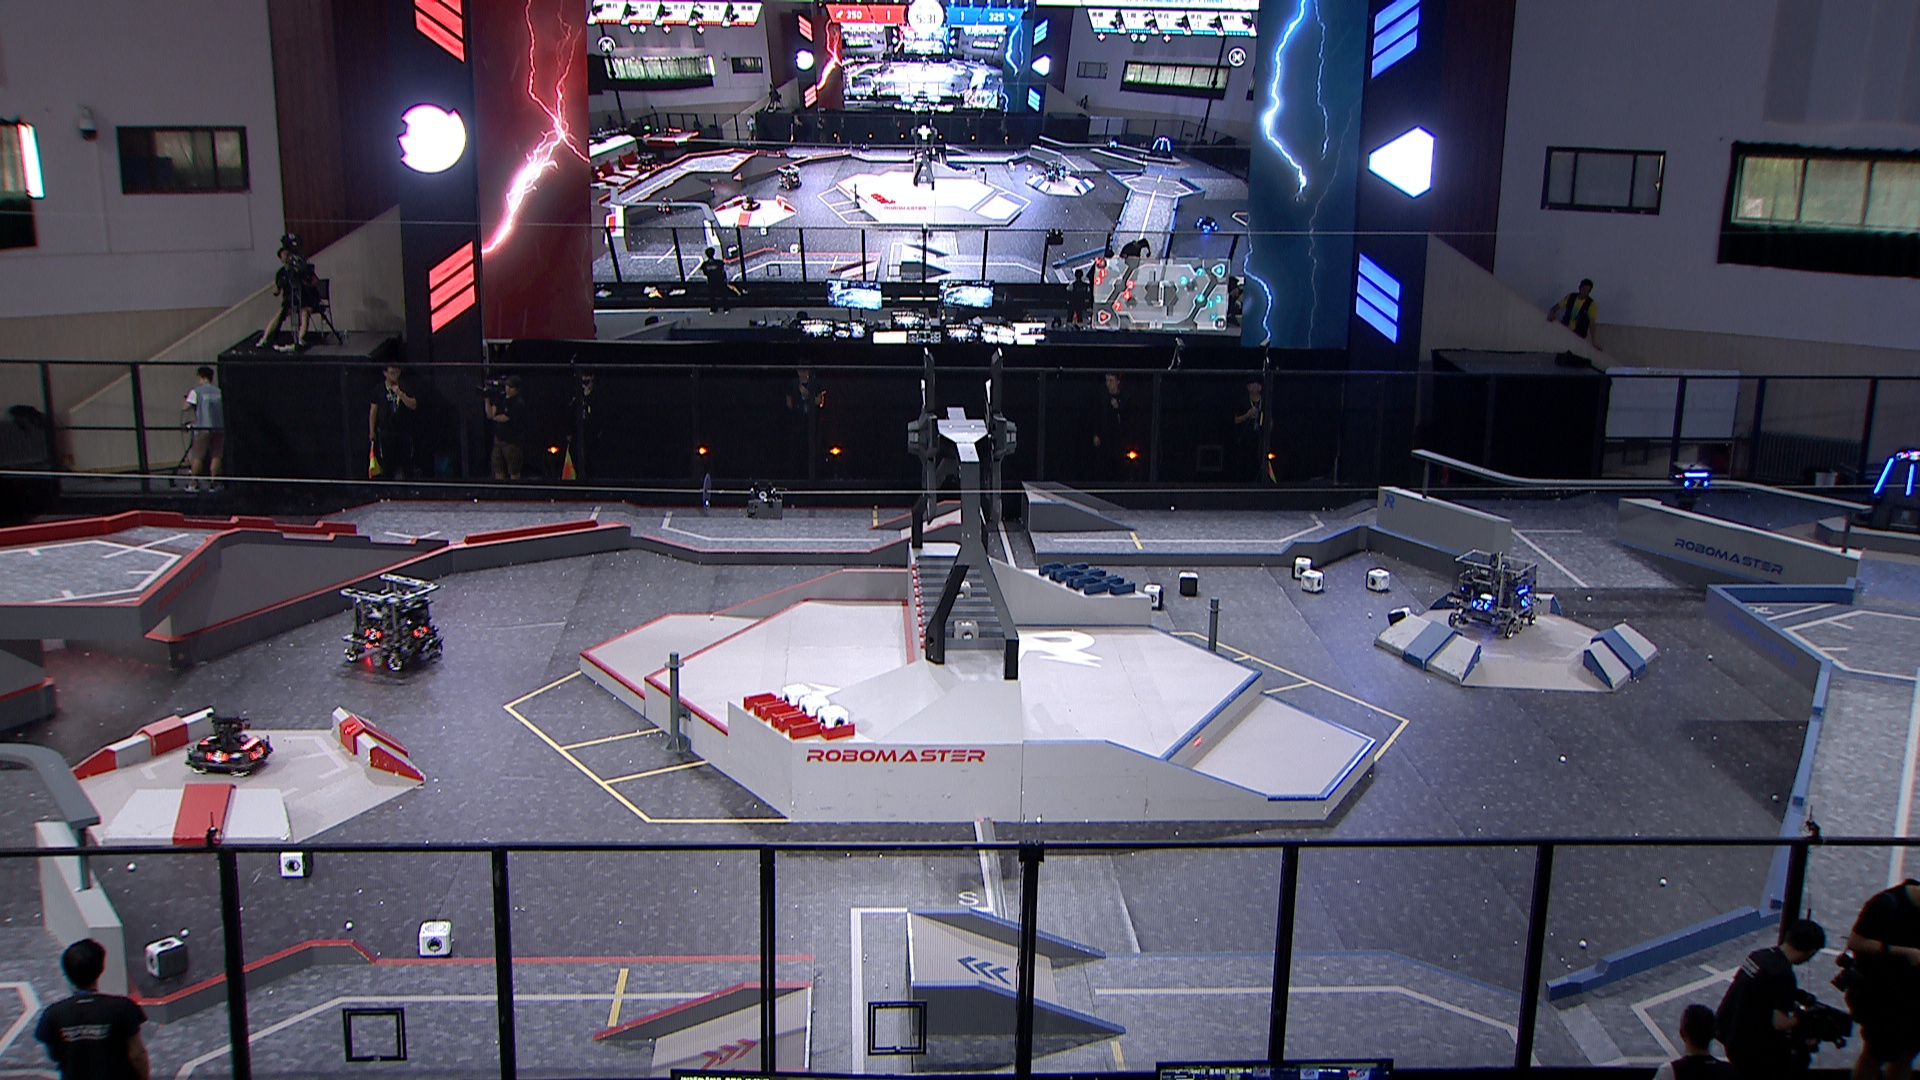armor: (1873, 456, 1894, 496), (1680, 475, 1709, 489), (1905, 462, 1917, 496), (208, 746, 229, 764), (363, 624, 381, 640), (411, 622, 429, 638), (1472, 597, 1489, 612), (249, 742, 262, 761), (199, 731, 214, 746), (1519, 593, 1532, 608)
base: (1849, 434, 1920, 531)
car: (334, 571, 440, 673), (1449, 546, 1542, 641), (181, 709, 272, 779)
ignore: (1043, 158, 1068, 186), (778, 164, 803, 190), (1147, 136, 1174, 160), (636, 156, 657, 177), (1195, 215, 1218, 233), (740, 194, 760, 214), (1894, 451, 1920, 465), (654, 196, 674, 214), (1105, 135, 1120, 154)
watcher: (1669, 455, 1714, 508)
